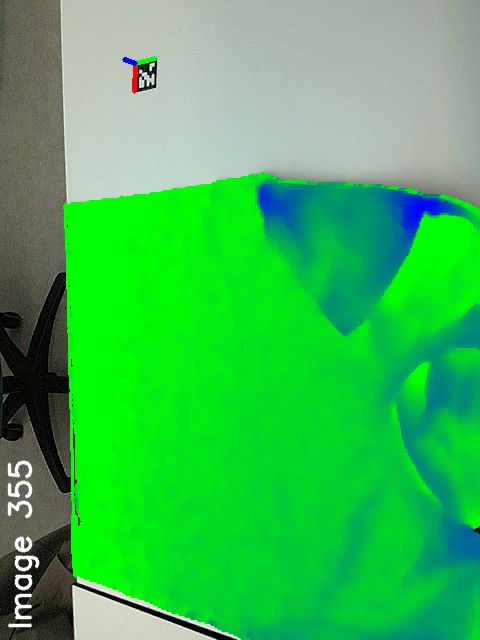V: (315, 294, 375, 338)
